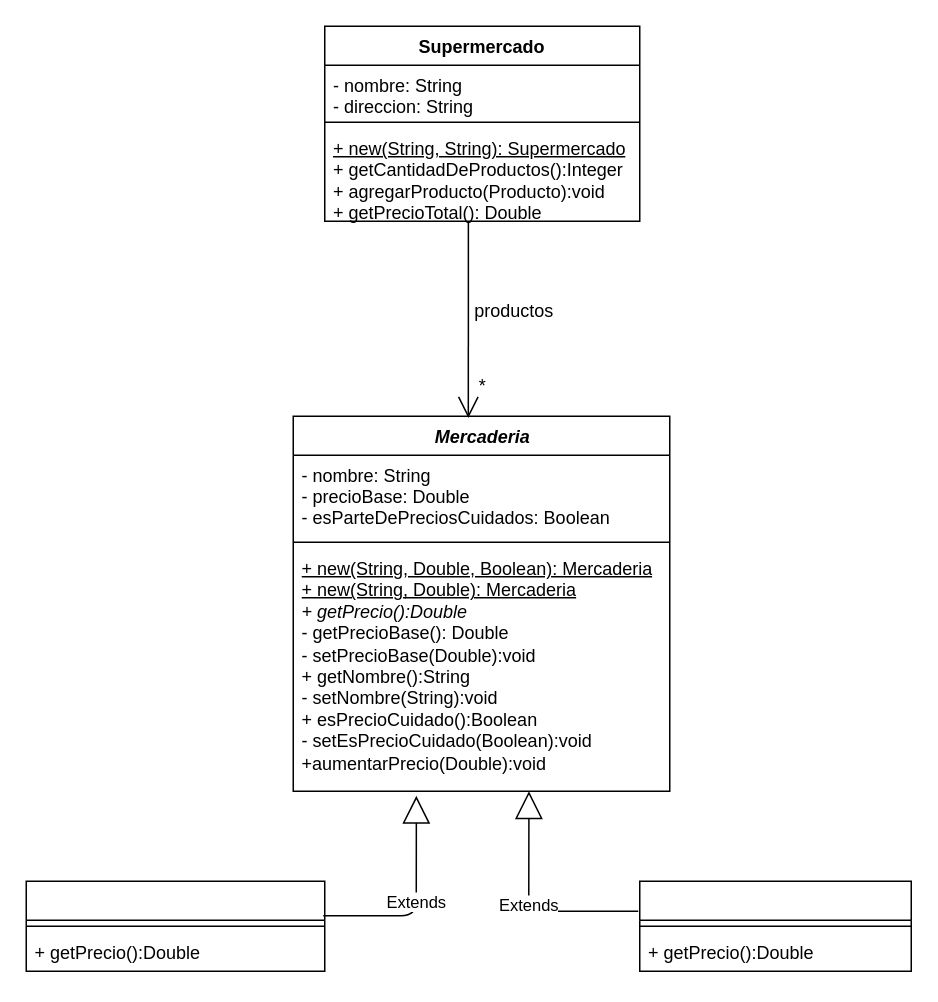
Image size: 938x1002. Some labels were removed from this diagram. Each missing label, with the box of its shape:
Producto: (25, 880, 325, 971)
ProductoDePrimeraNecesidad: (638, 880, 911, 971)
